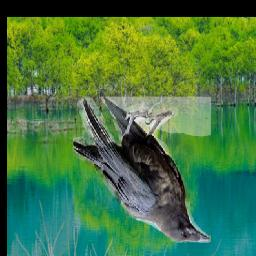Crow: (73, 97, 211, 243)
